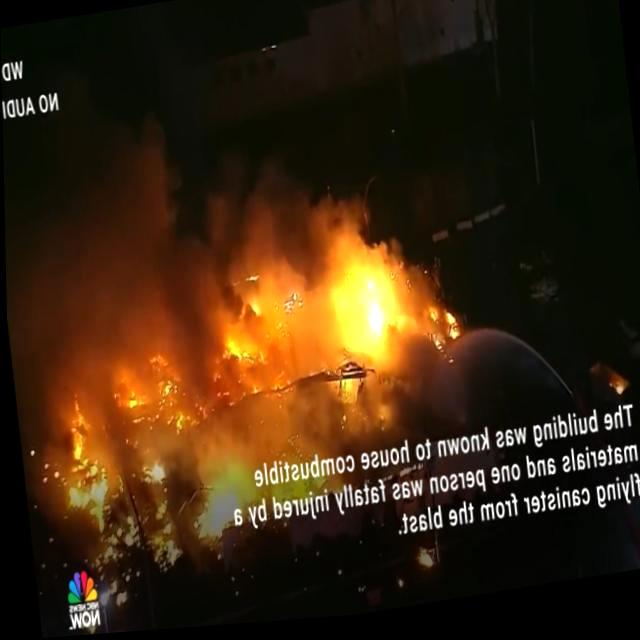fire: (58, 358, 188, 486), (208, 276, 312, 382), (263, 372, 389, 448), (169, 454, 255, 546), (320, 264, 396, 356)
